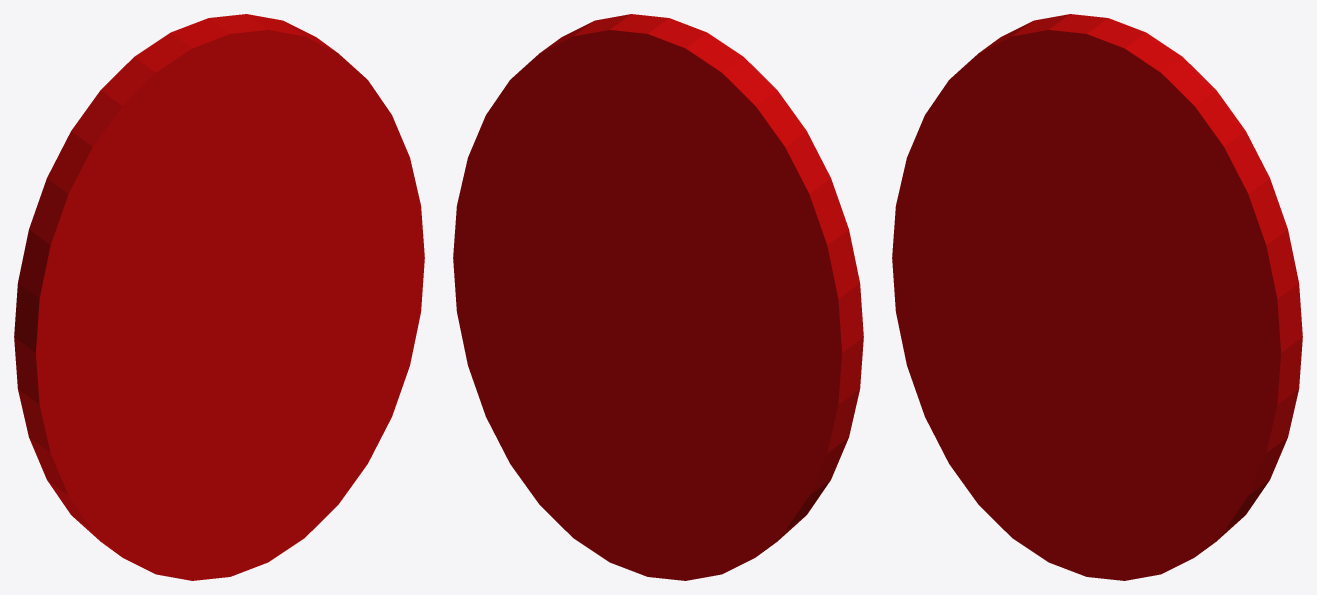
The model's file is BGSpamton(M)(G1).obj.
3 views of the same model, side by side, from view 1: azimuth 30°, elevation 25°; view 2: azimuth 150°, elevation 25°; view 3: azimuth 330°, elevation 25° (orthographic).
Parts seen in each view (by area): view 1: Circle.001; view 2: Circle.001; view 3: Circle.001.
Part boxes in pixels (x1,y1,x2,y2): Circle.001: [14, 14, 424, 580]; Circle.001: [453, 14, 863, 580]; Circle.001: [892, 14, 1302, 580].
Size of the model in its own units: 0.1814 by 0.242 by 0.0176.
